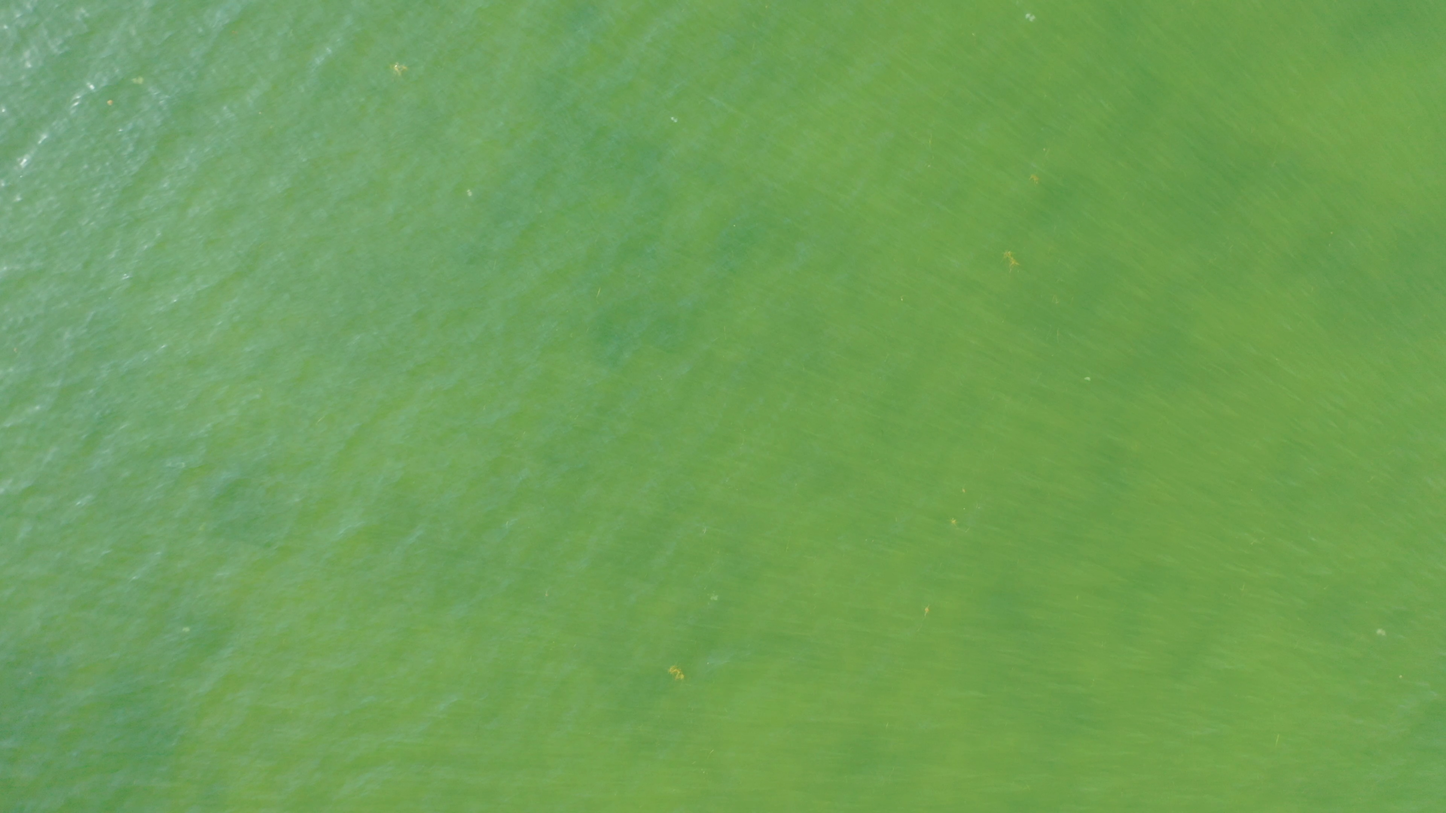meduse: (465, 189, 474, 198), (1027, 12, 1035, 21), (670, 116, 680, 123), (709, 595, 718, 602), (1378, 628, 1387, 635), (182, 627, 192, 633), (1085, 375, 1091, 382)
